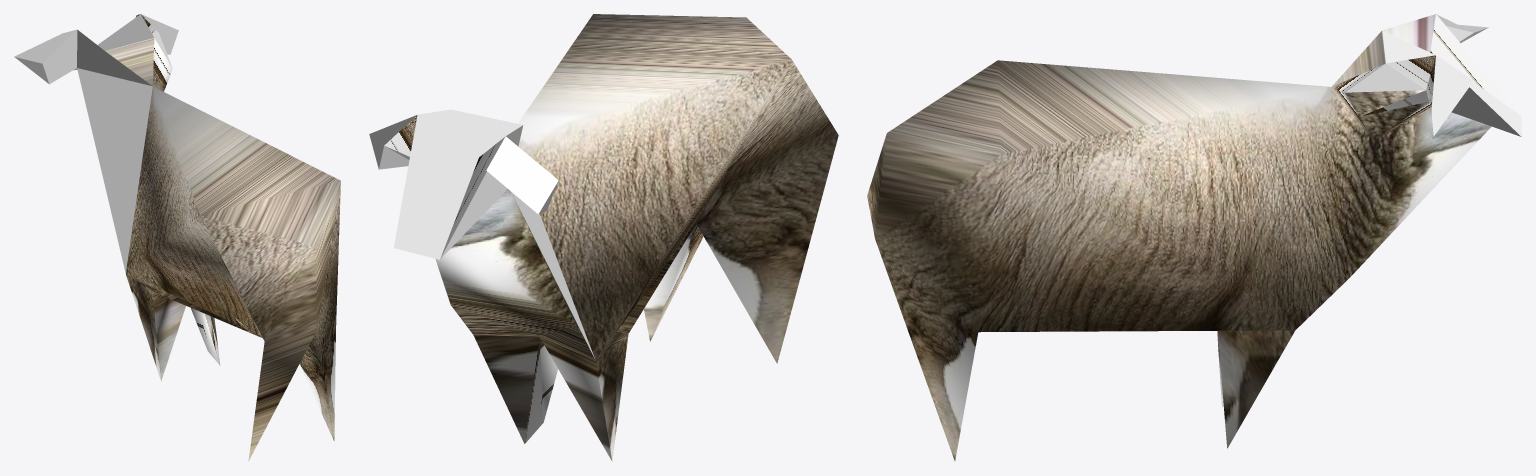
Rendered from sheep_lod3.glb.
3 renders of one model, left to right at view 1: azimuth 30°, elevation 25°; view 2: azimuth 150°, elevation 25°; view 3: azimuth 270°, elevation 25°, orthographic. The views are drawn at different scales.
Parts seen in each view (by area): view 1: Cube; view 2: Cube; view 3: Cube.
Boxes of the visible parts, x1,y1,x2,y2 form: Cube: (14, 14, 340, 461); Cube: (369, 14, 838, 461); Cube: (867, 14, 1521, 460).
Bounding box in the file's own units: 0.8993 × 1.79 × 2.66.
1 material, 1 textured.
